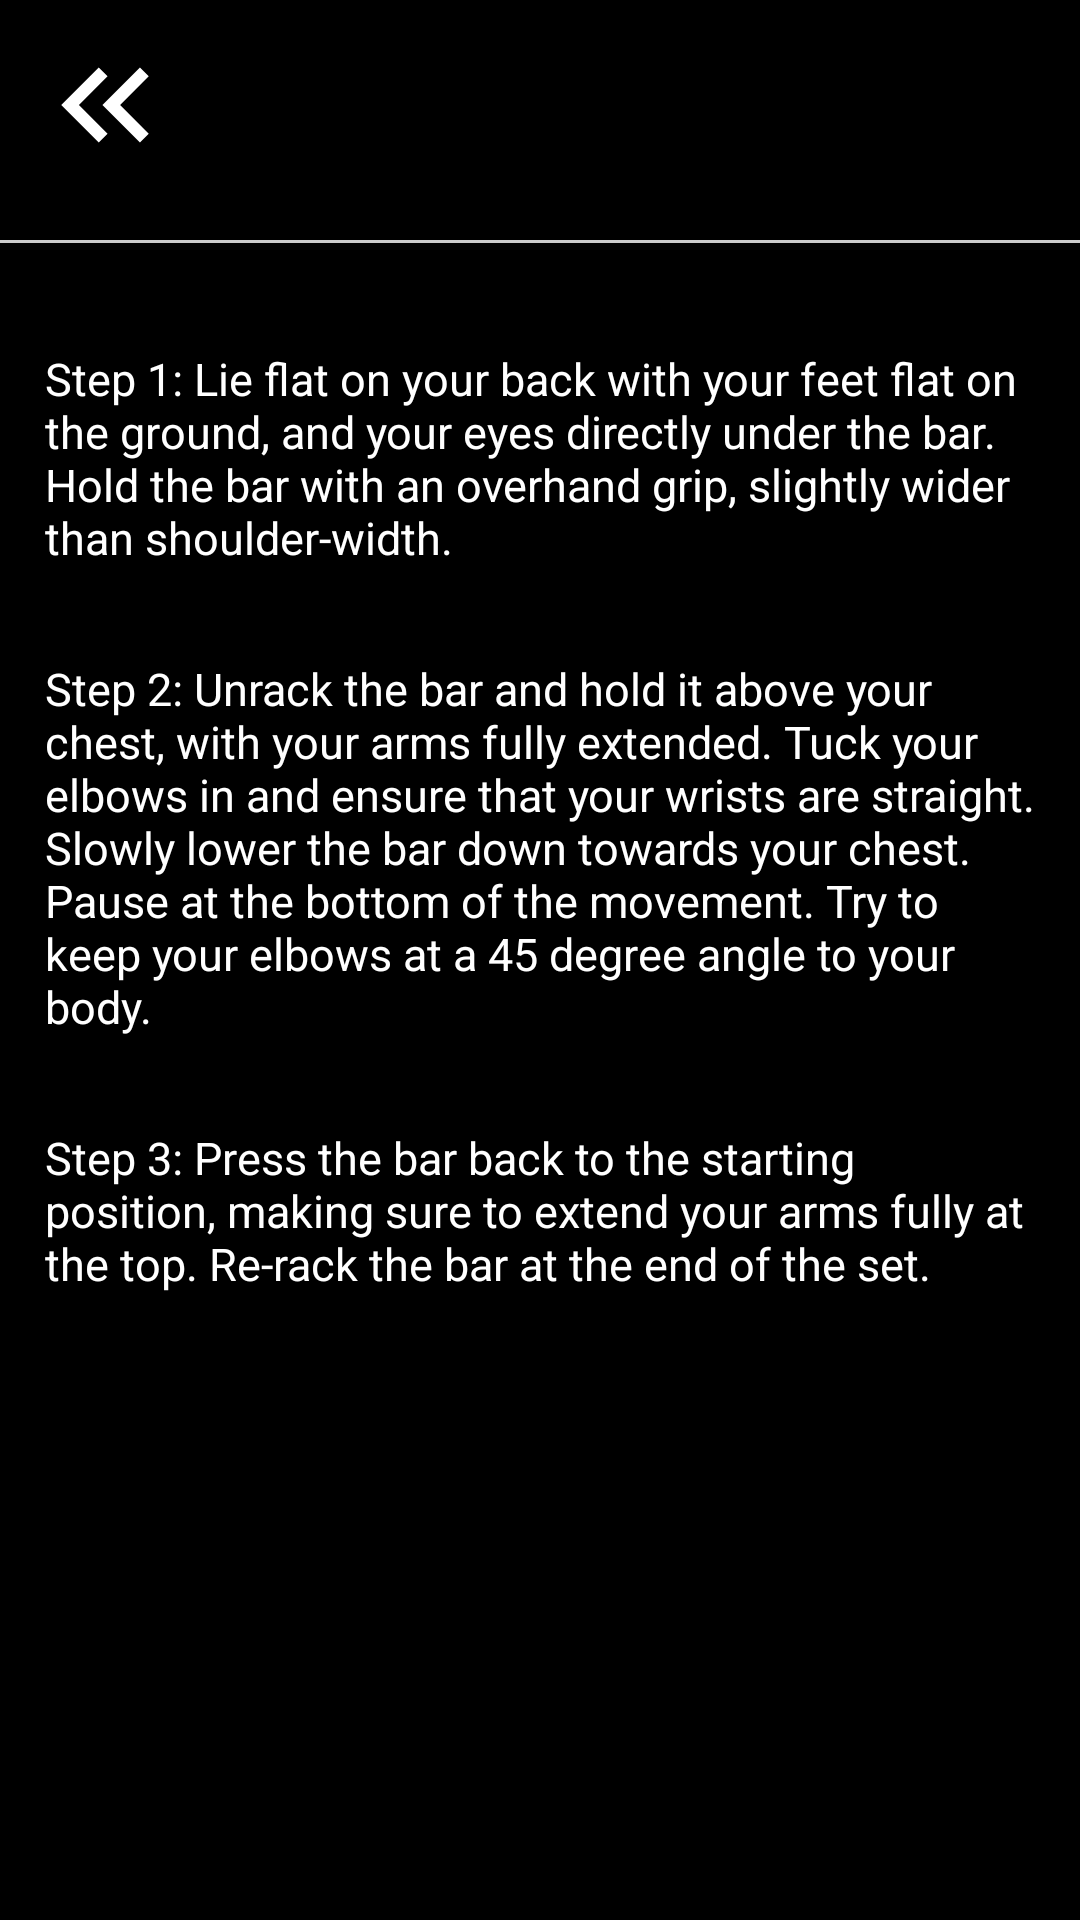

Icon bounding boxes for this 1080px x 1920px phone screenshot, format [x1, y1, x2, y2]:
keyboard double arrow left: [61, 67, 149, 143]
